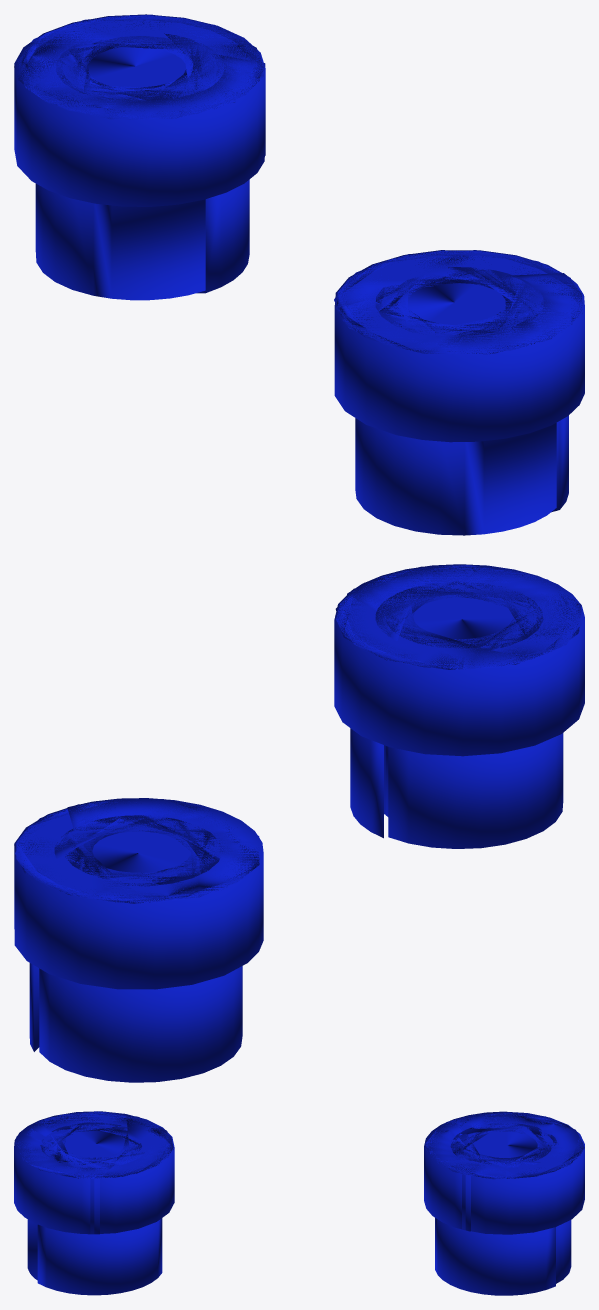
The model's file is tuyeau_element_000093.obj.
The picture shows the model from 3 angles, top to bottom: view 1: azimuth 30°, elevation 25°; view 2: azimuth 150°, elevation 25°; view 3: azimuth 270°, elevation 25°; orthographic projection. The views are drawn at different scales.
Visible parts, largest first — view 1: tuyeau1_Cube.014, tuyeau2_Cube.017; view 2: tuyeau2_Cube.017, tuyeau1_Cube.014; view 3: tuyeau1_Cube.014, tuyeau2_Cube.017.
Part boxes in pixels (x1,y1,x2,y2): tuyeau1_Cube.014: (14, 14, 265, 300); tuyeau2_Cube.017: (334, 250, 584, 535); tuyeau2_Cube.017: (334, 564, 584, 848); tuyeau1_Cube.014: (14, 798, 263, 1082); tuyeau1_Cube.014: (424, 1111, 584, 1295); tuyeau2_Cube.017: (14, 1111, 174, 1295).
Size of the model in its own units: 3545 by 2917 by 12517.
